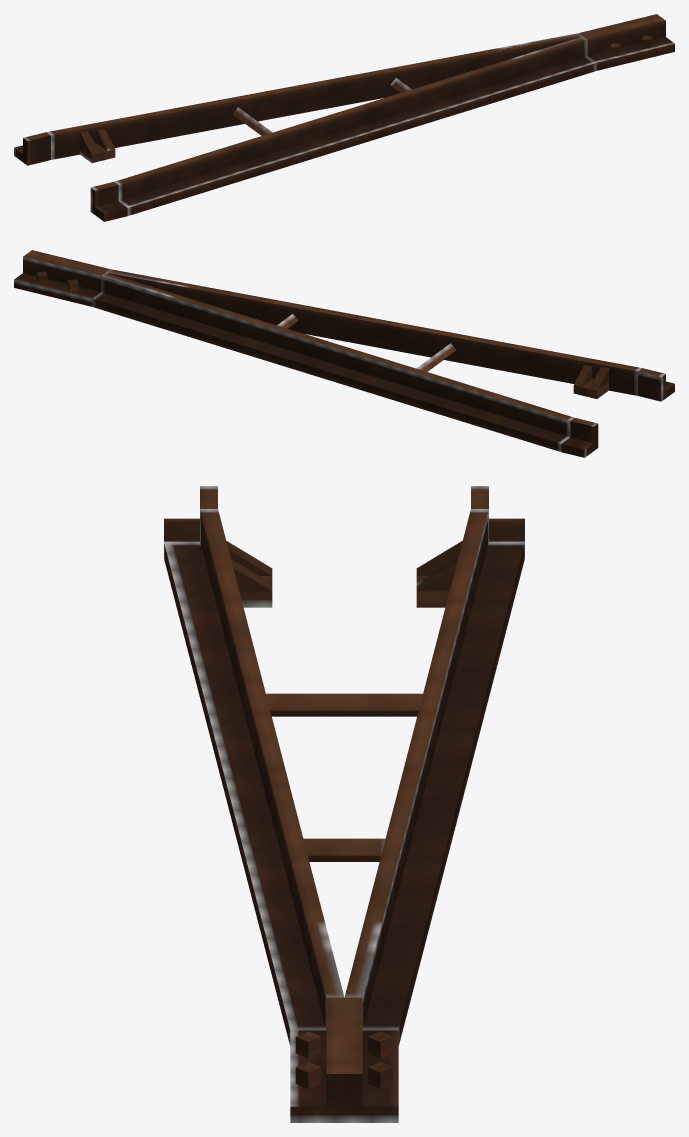
The model's file is mvp_ir_ct_end_rail.obj.
3 renders of one model, top to bottom at view 1: azimuth 30°, elevation 25°; view 2: azimuth 150°, elevation 25°; view 3: azimuth 270°, elevation 25°, orthographic. The views are drawn at different scales.
Parts seen in each view (by area): view 1: RAIL_BASE_mvpRail; view 2: RAIL_BASE_mvpRail; view 3: RAIL_BASE_mvpRail, RAIL_LEFT_mvpRail, RAIL_RIGHT_mvpRail.
Boxes of the visible parts, left/top/right/bottom form: RAIL_BASE_mvpRail: left=14, top=14, right=674, bottom=221; RAIL_BASE_mvpRail: left=14, top=250, right=674, bottom=457; RAIL_BASE_mvpRail: left=164, top=486, right=524, bottom=1122; RAIL_LEFT_mvpRail: left=295, top=1031, right=320, bottom=1088; RAIL_RIGHT_mvpRail: left=368, top=1031, right=393, bottom=1088.
Bounding box in the file's own units: 4.81 × 0.1875 × 1.25.
Materials: 1 (1 with a texture image).
